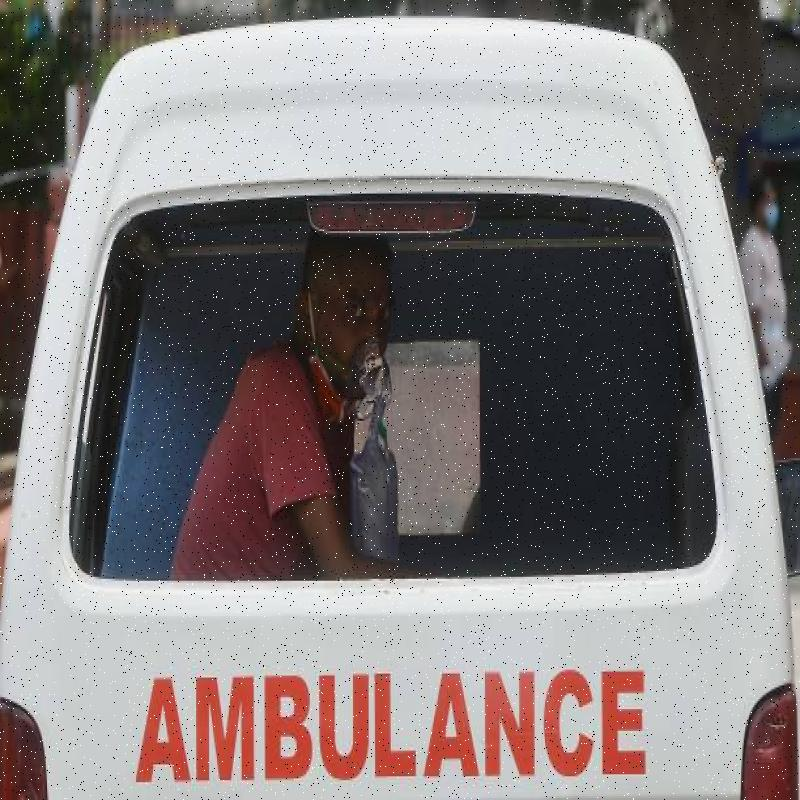ambulance: (27, 62, 760, 800)
